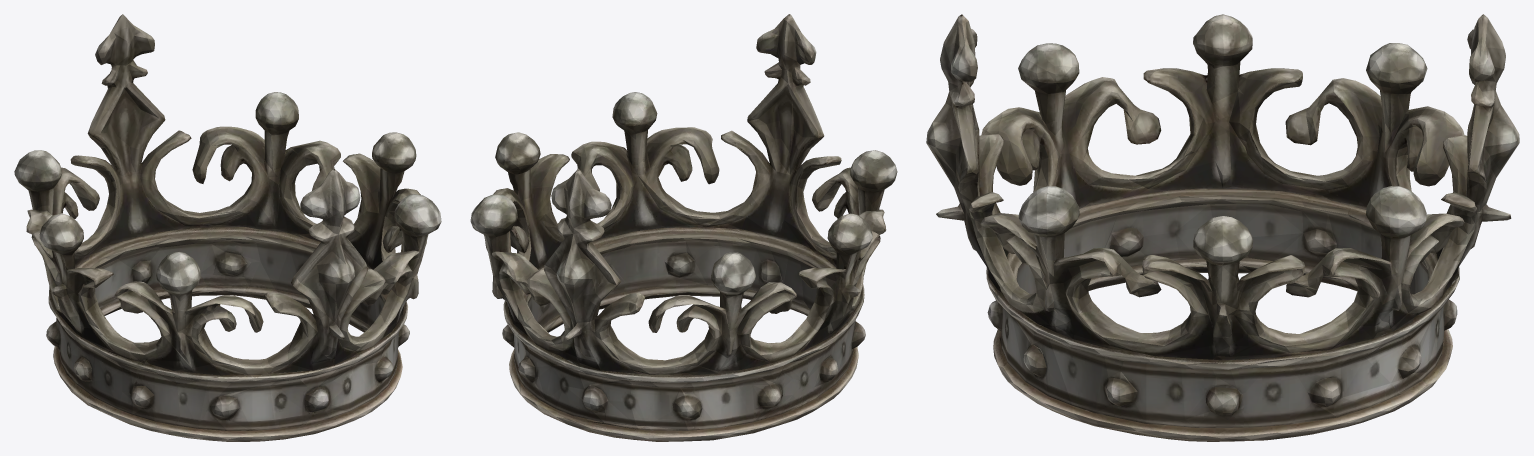
The model's file is royal-crown.glb.
3 views of the same model, side by side, from view 1: azimuth 30°, elevation 25°; view 2: azimuth 150°, elevation 25°; view 3: azimuth 270°, elevation 25° (orthographic). The views are drawn at different scales.
Visible parts, largest first — view 1: world; view 2: world; view 3: world.
Boxes of the visible parts, bbox=[...] form: world: bbox=[14, 14, 441, 441]; world: bbox=[470, 14, 897, 441]; world: bbox=[926, 14, 1519, 441].
Size of the model in its own units: 0.8951 by 0.6386 by 0.9996.
Materials: 1 (1 with a texture image).
